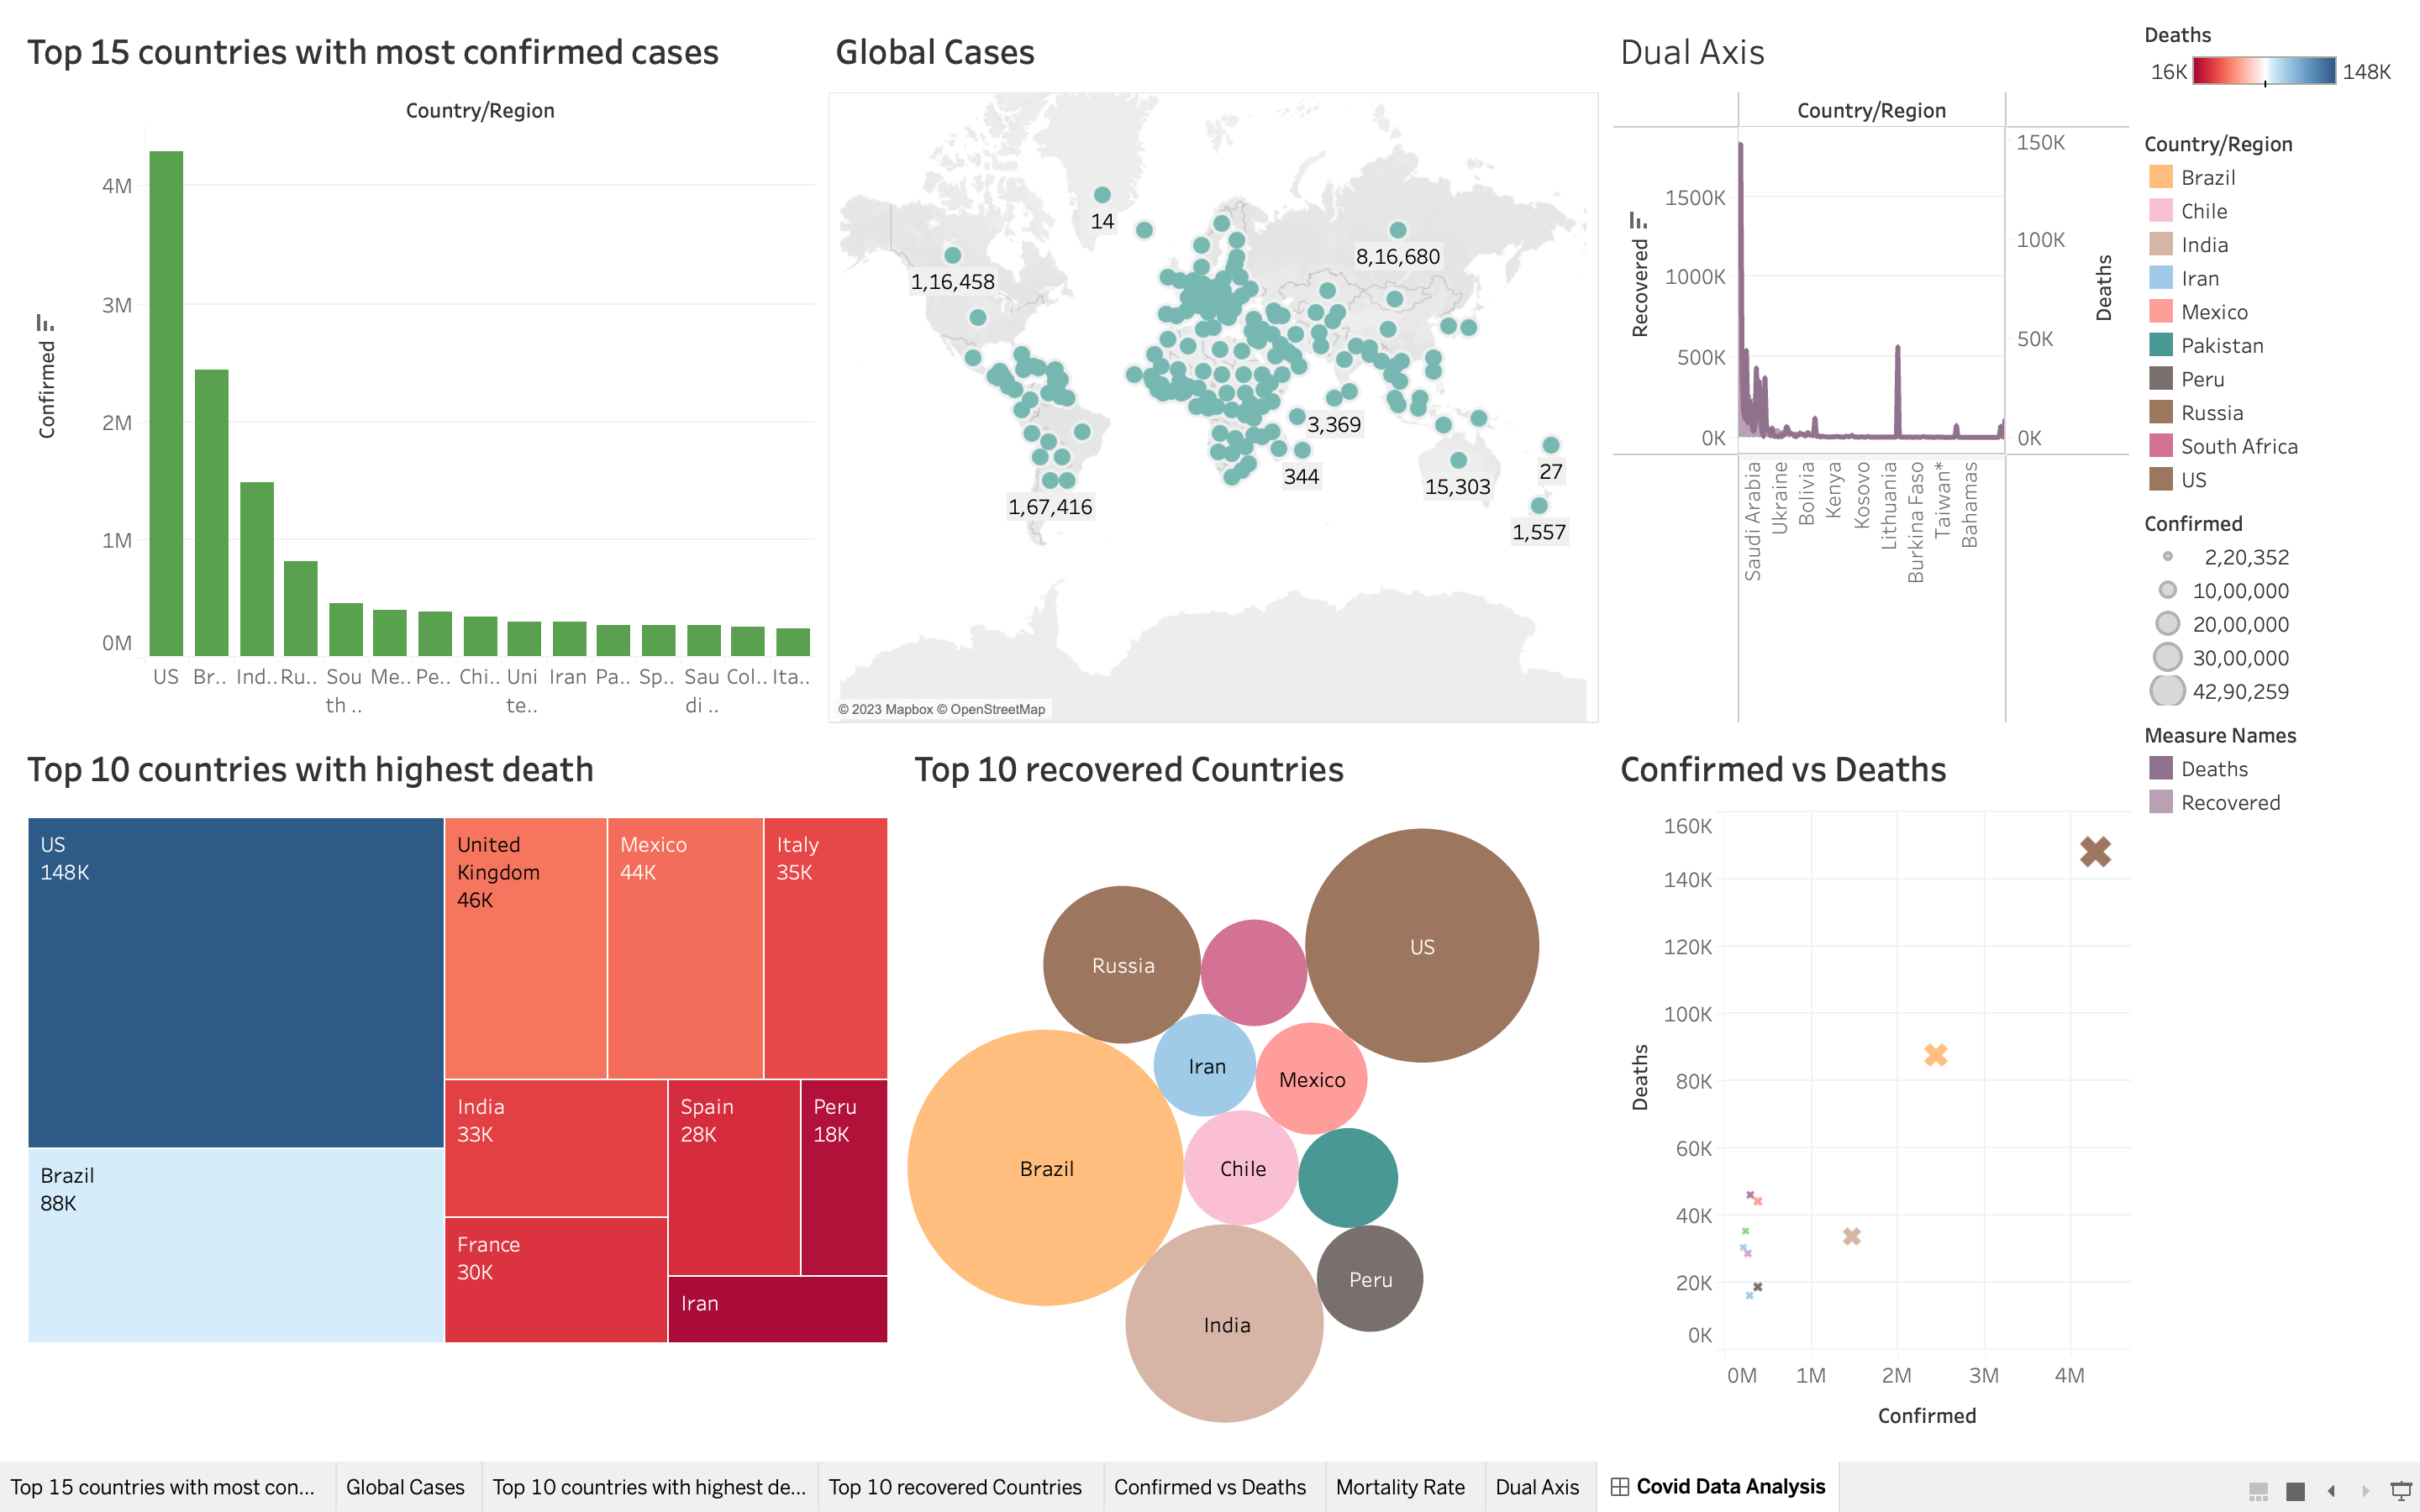

What the dashboard file says about the page in this screenshot:
{"tool":"tableau","page":{"name":"Covid Data Analysis","canvas":[1000,1000],"units":"permille","ordinal":0},"visuals":[{"type":"worksheet","title":"Top 15 countries with most confirmed cases","mark":"Automatic","rows":["Confirmed"],"cols":["Country/Region"],"box":[6.5,9.9,326.2,490.1]},{"type":"worksheet","title":"Global Cases","mark":"Automatic","box":[332.8,9.9,316.3,490.1]},{"type":"worksheet","title":"Dual Axis","mark":"Automatic","rows":["Recovered","Deaths"],"cols":["Country/Region"],"box":[649.1,9.9,214.2,490.1]},{"type":"legend","title":"Top 10 countries with highest death","param":"[federated.1vyx9ew0ewh4gm1clo0dr1vgbcwb].[sum:Deaths:qk]","box":[863.3,9.9,130.2,80.4]},{"type":"legend","title":"Top 10 recovered Countries","param":"[federated.1vyx9ew0ewh4gm1clo0dr1vgbcwb].[none:Country/Region:nk]","box":[863.3,90.3,130.2,279.7]},{"type":"legend","title":"Confirmed vs Deaths","param":"[federated.1vyx9ew0ewh4gm1clo0dr1vgbcwb].[sum:Confirmed:qk]","box":[863.3,370,130.2,155.9]},{"type":"worksheet","title":"Top 10 countries with highest death","mark":"Automatic","box":[6.5,500,358,490.1]},{"type":"worksheet","title":"Top 10 recovered Countries","mark":"Circle","box":[364.5,500,284.6,490.1]},{"type":"worksheet","title":"Confirmed vs Deaths","mark":"Automatic","rows":["Deaths"],"cols":["Confirmed"],"box":[649.1,500,214.2,490.1]},{"type":"legend","title":"Dual Axis","param":"[federated.1vyx9ew0ewh4gm1clo0dr1vgbcwb].[:Measure Names]","box":[863.3,526,130.2,81.7]}]}

Visuals, with their boxes on the dashboard's canvas, which has no fixed pixel size, in thousandths of its width and height (x1, y1, x2, y2). These are canvas units, not pixel positions in the 2420x1512 screenshot, which may show the page scaled, cropped or inside an application window:
"Top 15 countries with most confirmed cases" worksheet: {"x1": 6, "y1": 10, "x2": 333, "y2": 500}
"Global Cases" worksheet: {"x1": 333, "y1": 10, "x2": 649, "y2": 500}
"Dual Axis" worksheet: {"x1": 649, "y1": 10, "x2": 863, "y2": 500}
"Top 10 countries with highest death" legend: {"x1": 863, "y1": 10, "x2": 994, "y2": 90}
"Top 10 recovered Countries" legend: {"x1": 863, "y1": 90, "x2": 994, "y2": 370}
"Confirmed vs Deaths" legend: {"x1": 863, "y1": 370, "x2": 994, "y2": 526}
"Top 10 countries with highest death" worksheet: {"x1": 6, "y1": 500, "x2": 364, "y2": 990}
"Top 10 recovered Countries" worksheet (Circle marks): {"x1": 364, "y1": 500, "x2": 649, "y2": 990}
"Confirmed vs Deaths" worksheet: {"x1": 649, "y1": 500, "x2": 863, "y2": 990}
"Dual Axis" legend: {"x1": 863, "y1": 526, "x2": 994, "y2": 608}
